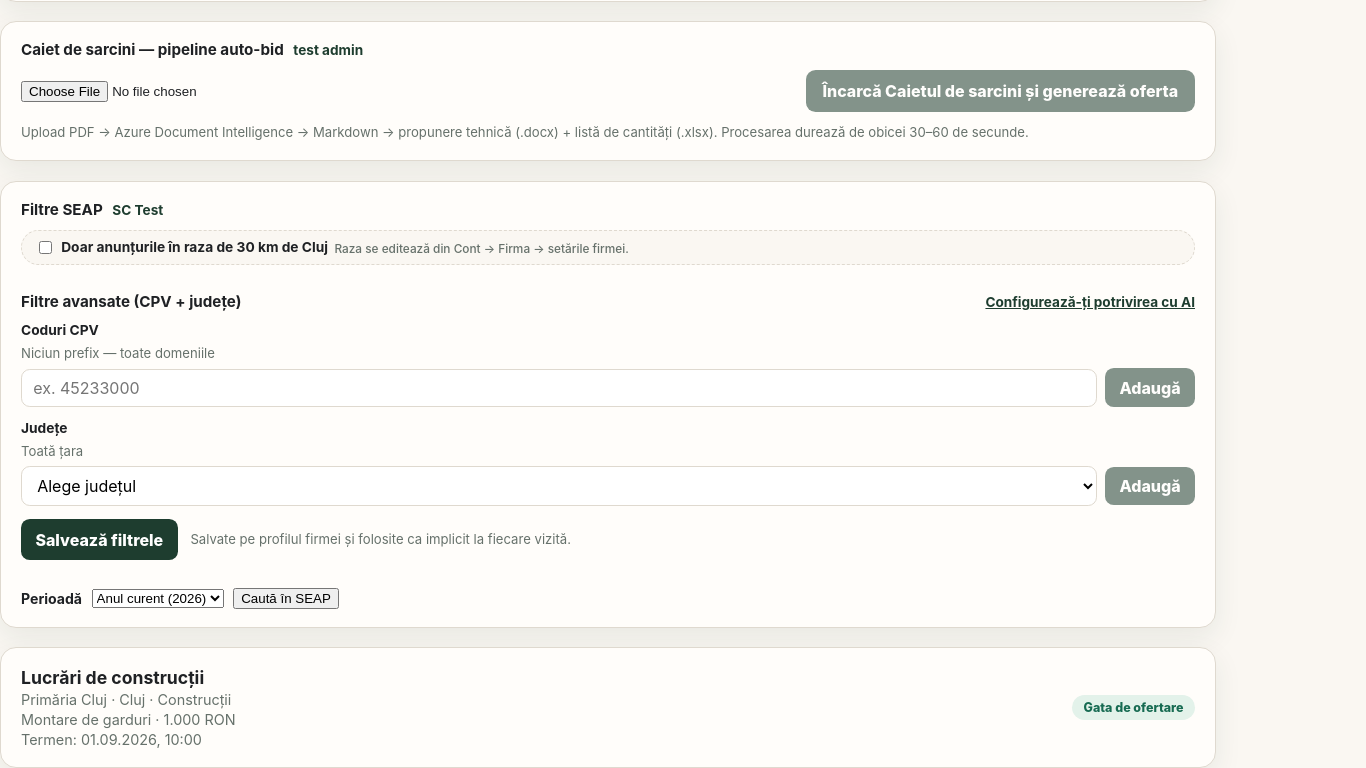
Scenario: SeapTendersComponent › keeps the list visible and shows non-blocking skeleton rows while a search is in flight
The width and height of the screenshot is (1366, 768).
(page scrolled)
What coordinates should you click on to do the following:
click the button "Caută în SEAP"
I would click on:
 (286, 598)
Its box is [233,588,339,609].
(page scrolled)
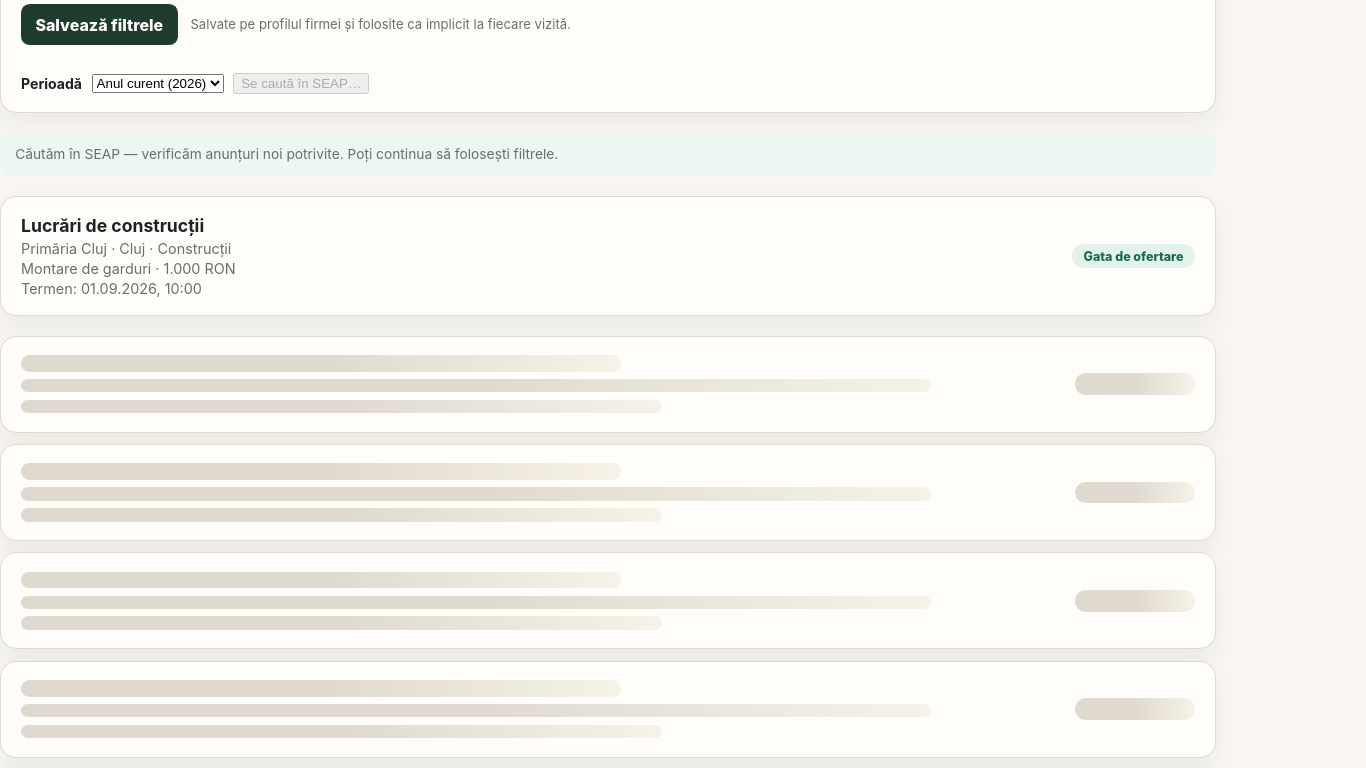
Expected: the text "Lucrări de construcții" is shown, [21,215,236,236]
Now the 1st element with class "skeleton-card" is shown, box [0,336,1216,433]
Now the text "Căutăm în SEAP" is shown, box [15,146,558,162]
